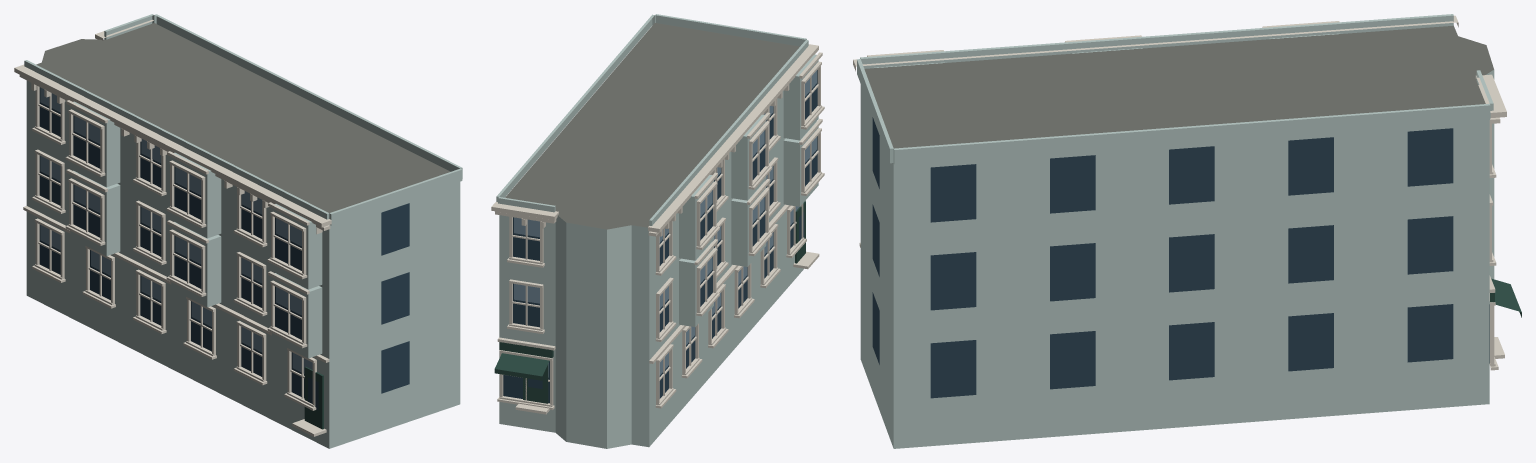
3 renders of one model, left to right at view 1: azimuth 30°, elevation 25°; view 2: azimuth 150°, elevation 25°; view 3: azimuth 270°, elevation 25°, orthographic. The views are drawn at different scales.
Parts seen in each view (by area): view 1: Footprint 0 / surface 2, Footprint 0 / surface 1, Cornices and window frames, Facade bay volumes, Inset glazing, Sky reflection panels, Storefronts and doors; view 2: Footprint 0 / surface 2, Footprint 0 / surface 1, Cornices and window frames, Facade bay volumes, Inset glazing, Sky reflection panels, Storefronts and doors; view 3: Footprint 0 / surface 2, Footprint 0 / surface 1, Inset glazing, Facade bay volumes, Cornices and window frames.
Boxes of the visible parts, <box> form: Footprint 0 / surface 2: <box>26,80,460,448</box>; Footprint 0 / surface 1: <box>36,23,450,212</box>; Cornices and window frames: <box>14,19,331,436</box>; Facade bay volumes: <box>24,14,462,358</box>; Inset glazing: <box>39,87,409,410</box>; Sky reflection panels: <box>40,87,312,373</box>; Storefronts and doors: <box>304,367,323,429</box>; Footprint 0 / surface 2: <box>499,91,805,448</box>; Footprint 0 / surface 1: <box>505,23,799,229</box>; Cornices and window frames: <box>491,44,824,414</box>; Facade bay volumes: <box>496,14,818,326</box>; Inset glazing: <box>503,70,817,403</box>; Sky reflection panels: <box>514,70,816,377</box>; Storefronts and doors: <box>494,201,805,403</box>; Footprint 0 / surface 2: <box>860,70,1494,448</box>; Footprint 0 / surface 1: <box>864,25,1493,148</box>; Inset glazing: <box>872,117,1489,398</box>; Facade bay volumes: <box>857,14,1493,164</box>; Cornices and window frames: <box>853,15,1506,370</box>.
Bounding box in the file's own units: 10.5 × 10.37 × 20.92.
